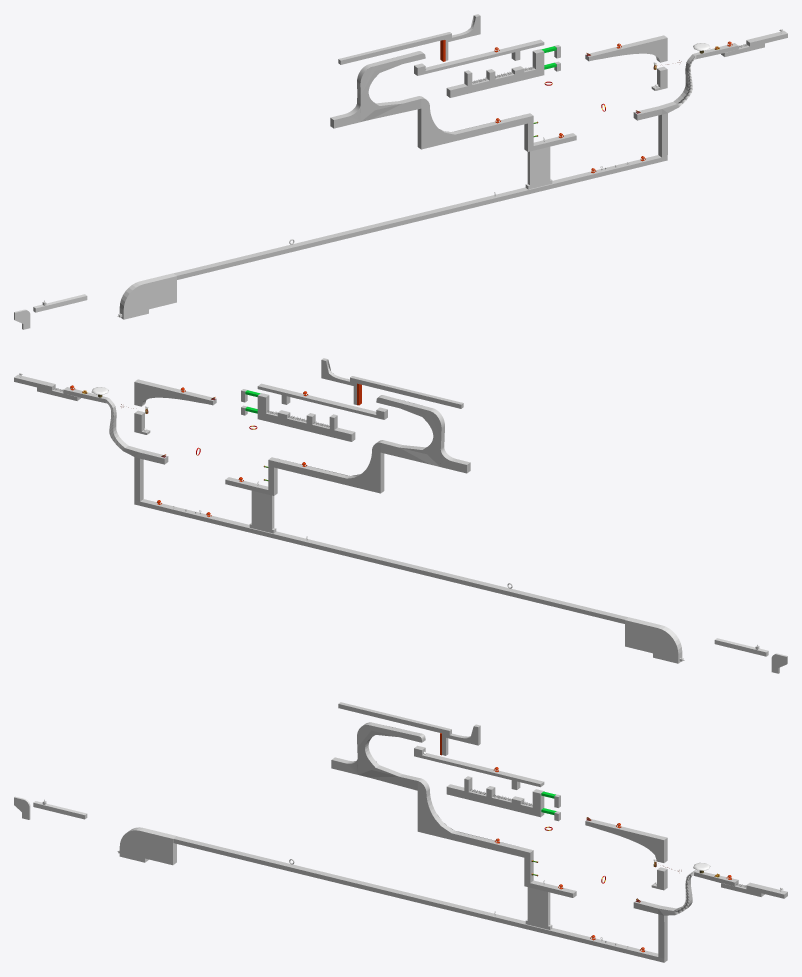
Rendered from SonicRushRerunLevelCreatorBlend.glb.
The picture shows the model from 3 angles, top to bottom: view 1: azimuth 30°, elevation 25°; view 2: azimuth 150°, elevation 25°; view 3: azimuth 330°, elevation 25°; orthographic projection.
Parts seen in each view (by area): view 1: Geometry.007, Geometry.008, Geometry.002, Geometry.005, Geometry.009, Geometry.004, Geometry; view 2: Geometry.007, Geometry.008, Geometry.002, Geometry.005, Geometry.009, Geometry.004, Geometry; view 3: Geometry.007, Geometry.008, Geometry.002, Geometry.005, Geometry.009, Geometry.004, Geometry.
Boxes of the visible parts, bbox=[...] form: Geometry.007: bbox=[330, 32, 576, 151]; Geometry.008: bbox=[173, 43, 738, 279]; Geometry.002: bbox=[119, 273, 176, 319]; Geometry.005: bbox=[446, 45, 560, 97]; Geometry.009: bbox=[414, 14, 544, 75]; Geometry.004: bbox=[585, 35, 667, 90]; Geometry: bbox=[527, 146, 550, 185]; Geometry.007: bbox=[225, 376, 470, 495]; Geometry.008: bbox=[63, 387, 628, 623]; Geometry.002: bbox=[625, 617, 682, 663]; Geometry.005: bbox=[241, 389, 355, 441]; Geometry.009: bbox=[257, 358, 387, 419]; Geometry.004: bbox=[134, 379, 216, 434]; Geometry: bbox=[251, 490, 274, 529]; Geometry.007: bbox=[331, 702, 576, 897]; Geometry.008: bbox=[173, 836, 738, 962]; Geometry.002: bbox=[119, 827, 176, 865]; Geometry.005: bbox=[446, 776, 560, 821]; Geometry.009: bbox=[414, 724, 544, 789]; Geometry.004: bbox=[585, 819, 667, 890]; Geometry: bbox=[527, 887, 550, 925].
Size of the model in its own units: 377 by 101 by 7.4.
43 materials, 9 textured.
